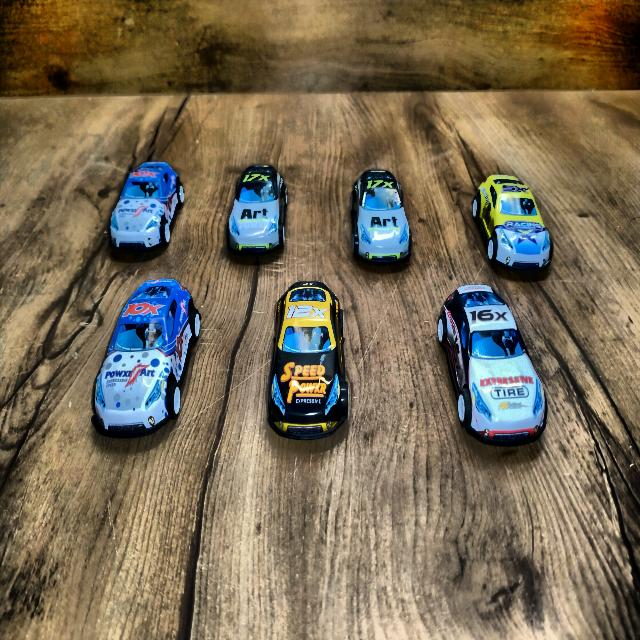Car: (438, 285, 547, 446), (94, 279, 200, 436), (268, 282, 348, 439), (472, 175, 552, 270), (108, 162, 184, 252), (351, 170, 411, 264), (226, 166, 286, 255)
